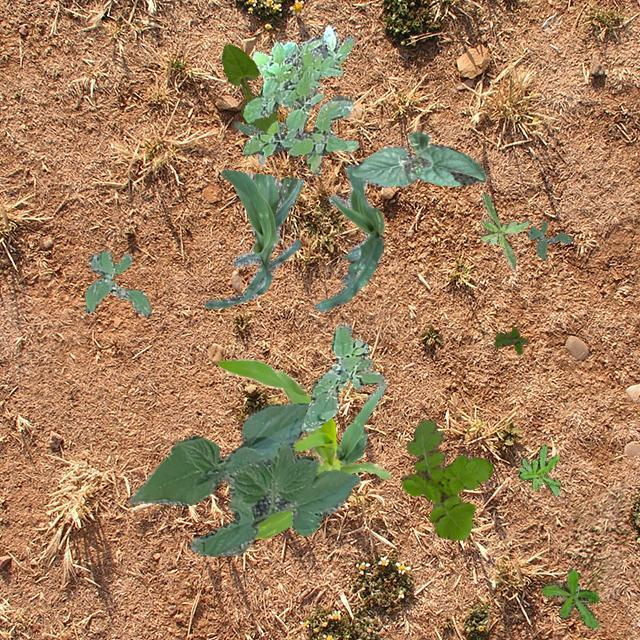crop: (128, 402, 358, 556), (216, 358, 390, 538), (204, 168, 302, 308), (314, 164, 384, 310), (352, 130, 484, 186), (220, 44, 276, 130), (334, 382, 384, 464)
weed: (242, 24, 358, 174), (400, 418, 492, 540), (298, 322, 386, 430), (84, 248, 150, 314), (479, 192, 528, 268), (540, 568, 598, 628), (232, 120, 284, 163), (518, 444, 560, 494), (526, 220, 572, 258), (494, 326, 528, 354)
